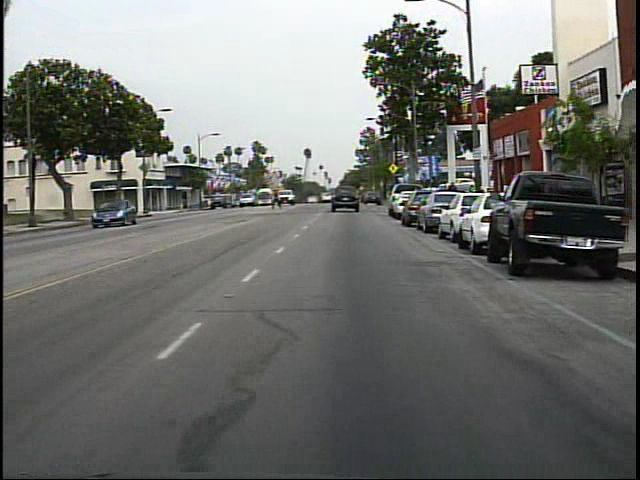person: (443, 178, 463, 218), (270, 185, 284, 214)
